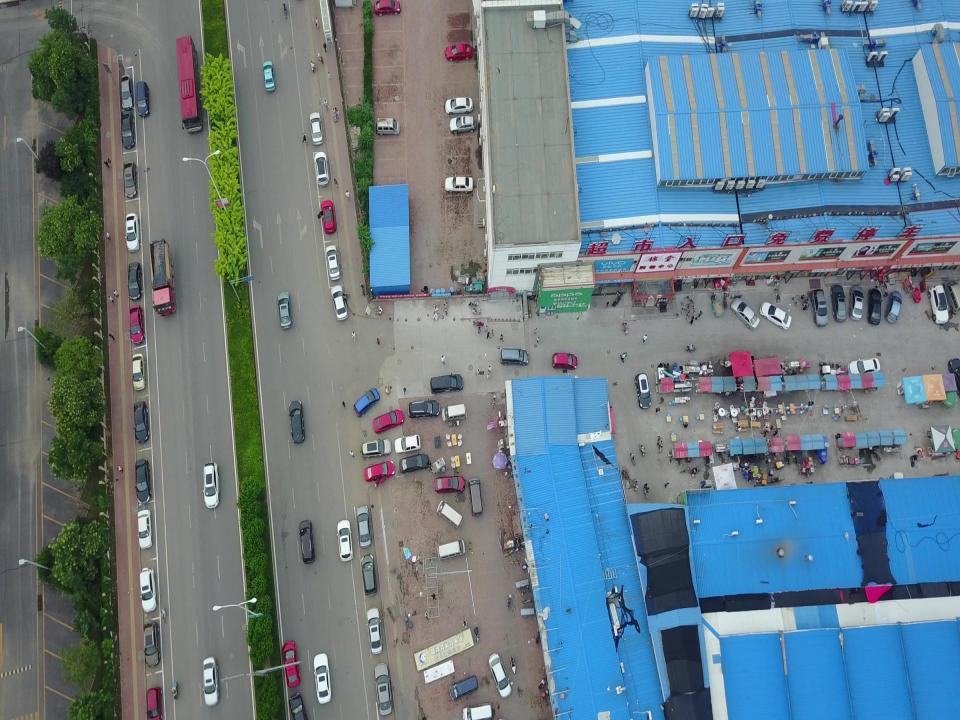bus: (175, 34, 204, 134)
car: (488, 651, 513, 699), (312, 652, 332, 705), (374, 661, 392, 717), (730, 298, 760, 331), (759, 301, 792, 331), (138, 566, 158, 613), (281, 641, 301, 688), (142, 621, 162, 667), (202, 656, 220, 707), (927, 284, 949, 325), (352, 387, 380, 418), (134, 457, 152, 505), (202, 461, 220, 509), (364, 460, 396, 487), (372, 408, 404, 434), (335, 519, 354, 562), (366, 606, 383, 654), (298, 519, 316, 564), (355, 504, 373, 549), (133, 400, 151, 444), (360, 553, 378, 596), (288, 399, 305, 444), (399, 450, 429, 475), (119, 109, 137, 150), (128, 304, 146, 345), (407, 397, 440, 419), (125, 260, 143, 300), (317, 199, 337, 235), (330, 285, 350, 321), (829, 283, 847, 323), (810, 288, 828, 327), (124, 211, 141, 252), (361, 437, 391, 460), (866, 288, 884, 326), (884, 290, 904, 324), (434, 473, 466, 494), (137, 508, 153, 549), (634, 373, 652, 409), (144, 686, 163, 720), (847, 357, 881, 376), (122, 159, 138, 199), (277, 291, 293, 330), (288, 691, 309, 720), (131, 353, 147, 391), (462, 701, 494, 720), (849, 284, 865, 321), (445, 95, 474, 115), (445, 174, 474, 194), (314, 151, 330, 187), (325, 245, 341, 281), (120, 73, 135, 111), (394, 434, 421, 455), (449, 114, 477, 134), (947, 356, 960, 399), (445, 43, 473, 61), (552, 351, 578, 370), (309, 112, 323, 146), (262, 60, 276, 93), (374, 0, 402, 16)
truck: (149, 237, 177, 317)
van: (436, 500, 464, 531), (430, 371, 464, 396), (448, 674, 478, 701), (466, 476, 484, 517), (437, 537, 466, 562), (942, 279, 960, 314), (499, 347, 528, 366), (136, 81, 150, 118), (442, 403, 467, 422), (376, 117, 400, 136)
